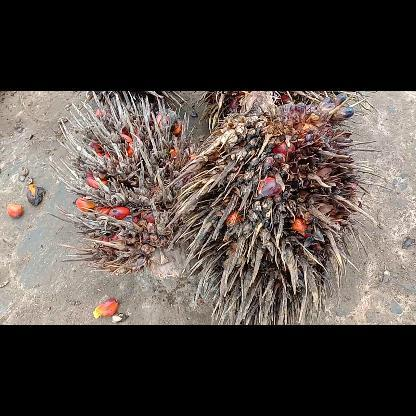Terlalu masak: (164, 90, 393, 324), (50, 92, 206, 286)
